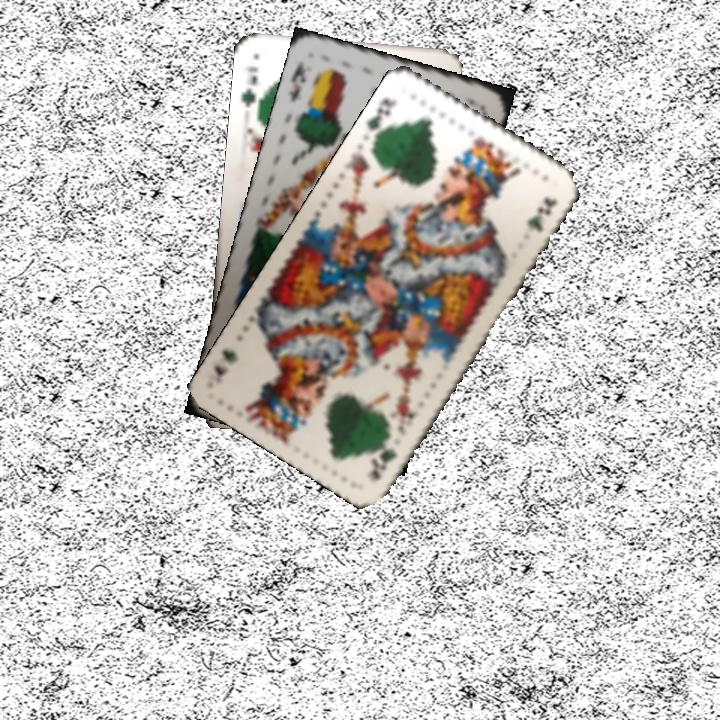EK: (285, 57, 308, 105)
GK: (365, 429, 400, 484), (362, 93, 399, 143), (237, 62, 261, 109)
